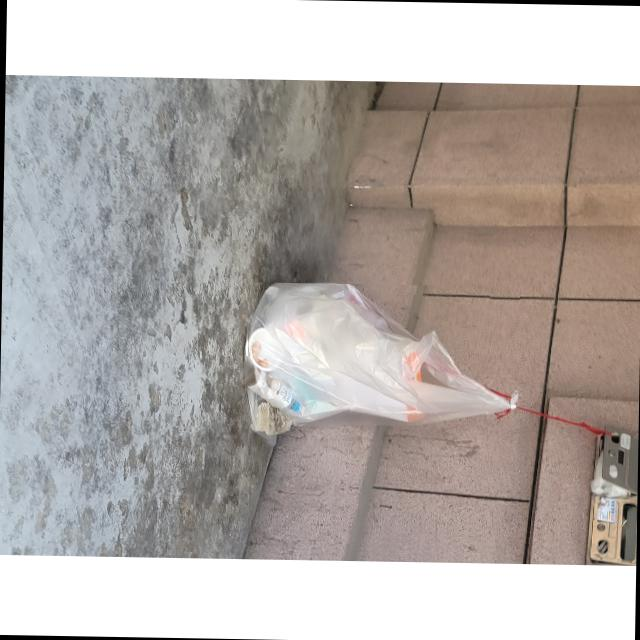other_trashbag: (244, 282, 517, 442)
